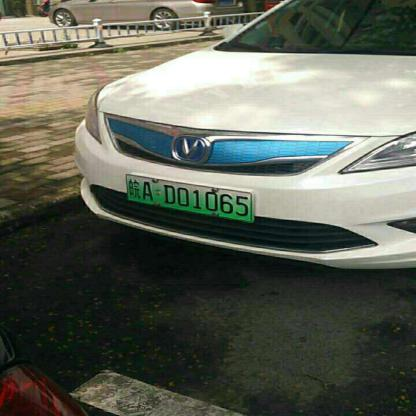lp: (126, 174, 252, 222)
